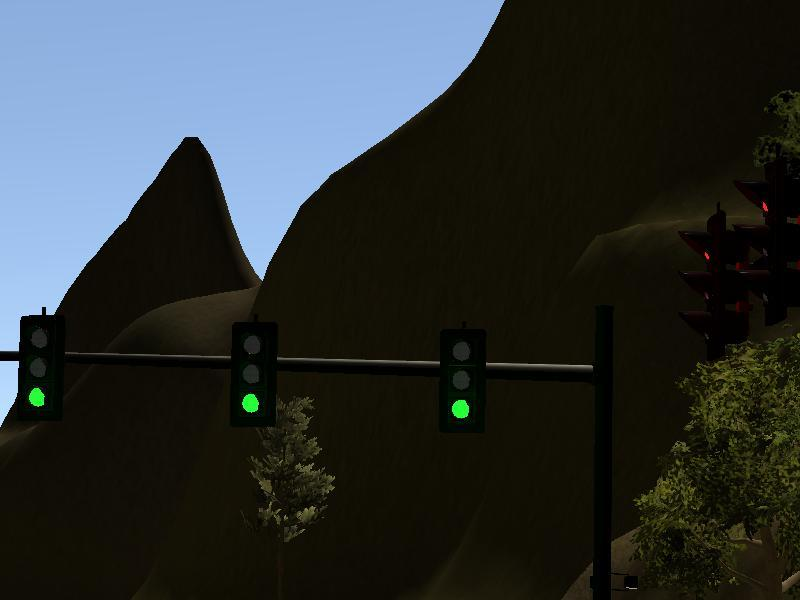Green: (436, 329, 485, 434), (230, 321, 275, 426), (18, 315, 63, 420)
